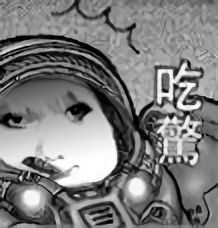dragon: (1, 99, 94, 173)
